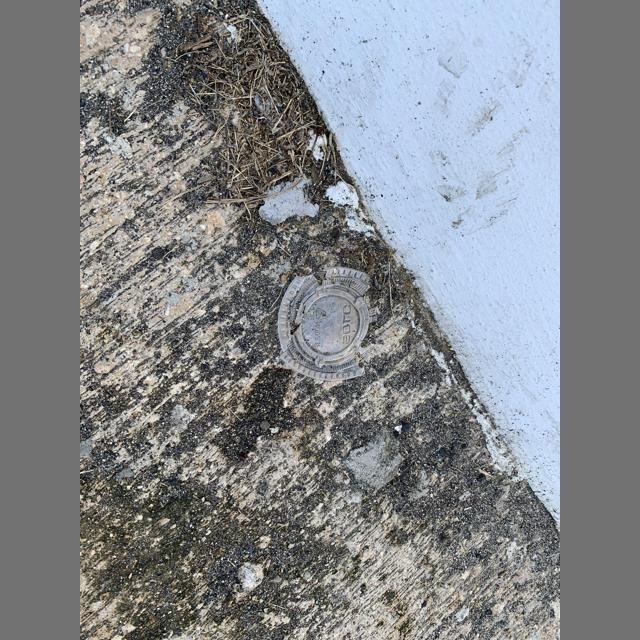litter: (277, 267, 380, 381)
